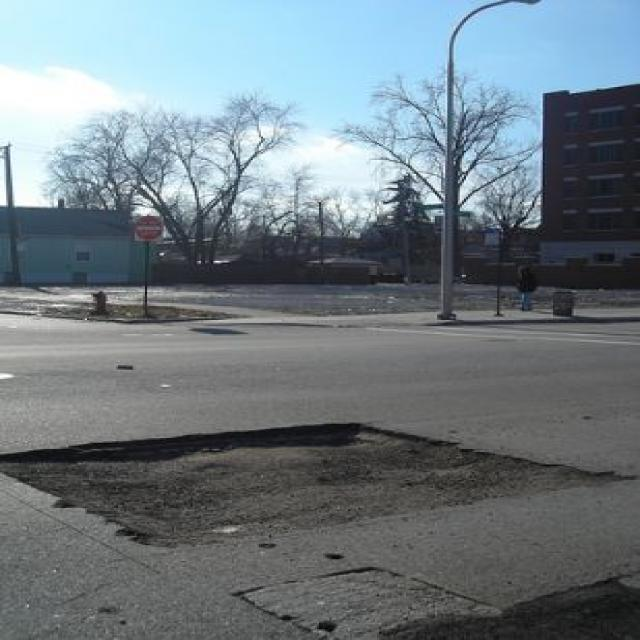pothole: (0, 412, 615, 546)
